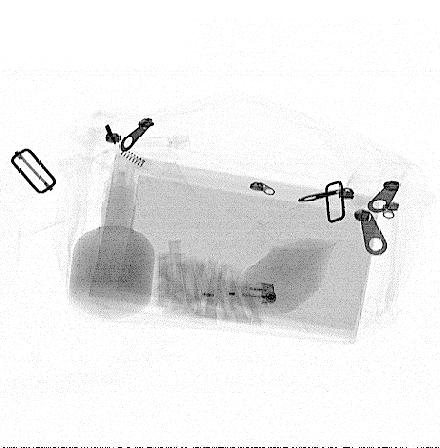Lighter: (200, 279, 278, 306)
